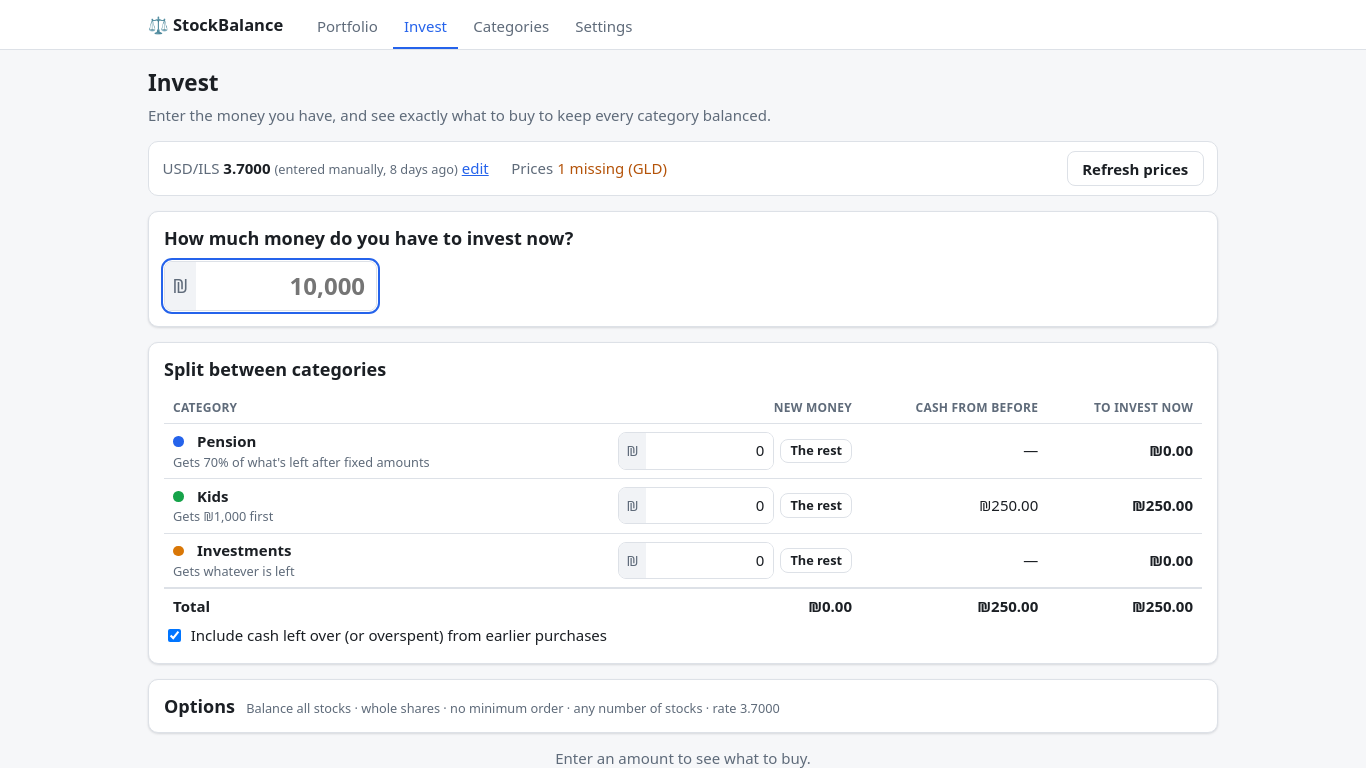
Scenario: InvestPage › asks for missing prices before calculating
The width and height of the screenshot is (1366, 768).
Step 1. Type "10000" into the field named "Amount to invest in ILS" → (286,286), box [196,262,376,310]
(page scrolled)
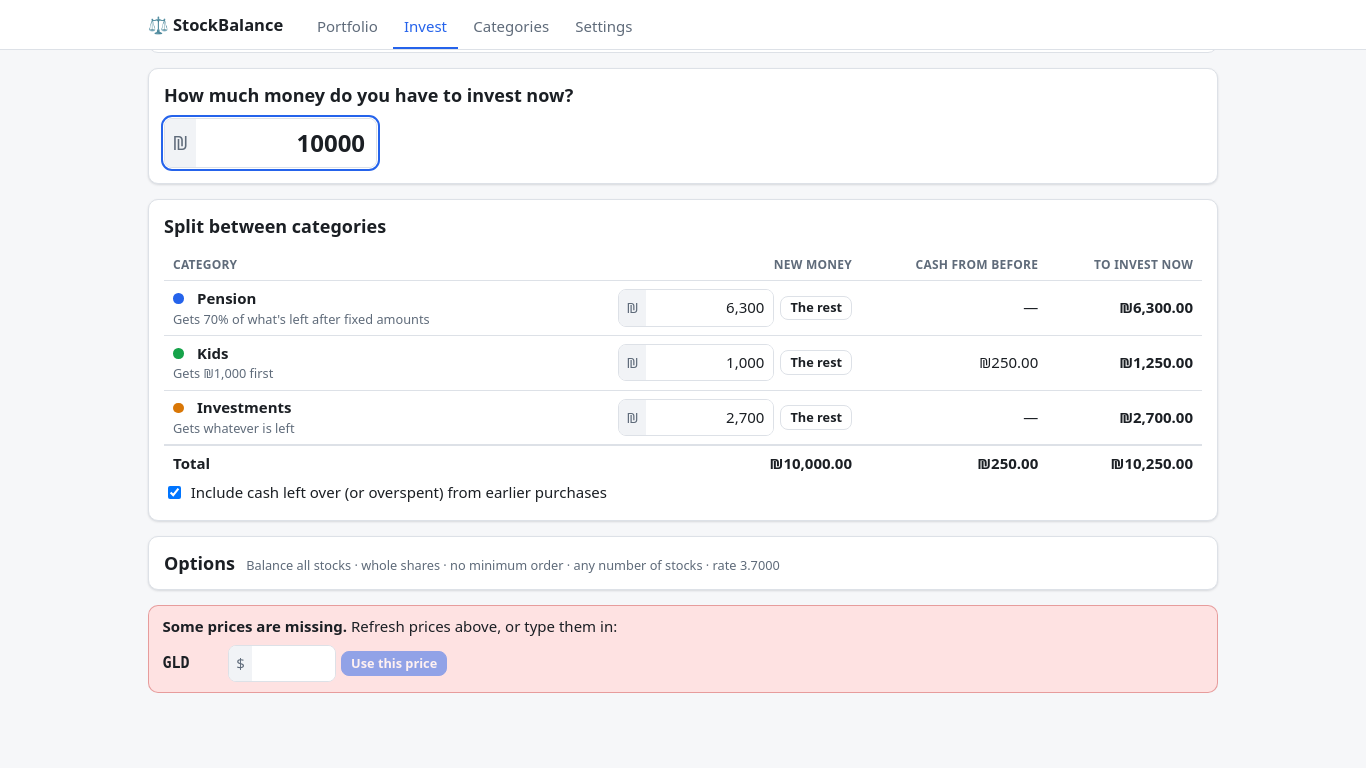
Expected: the element "Orders to place" is not shown
Expected: the text "Some prices are missing." is shown, [162,616,347,636]
Step 2. Type "300" into the field named "Price of GLD in USD" → (294,664), box [252,646,335,681]
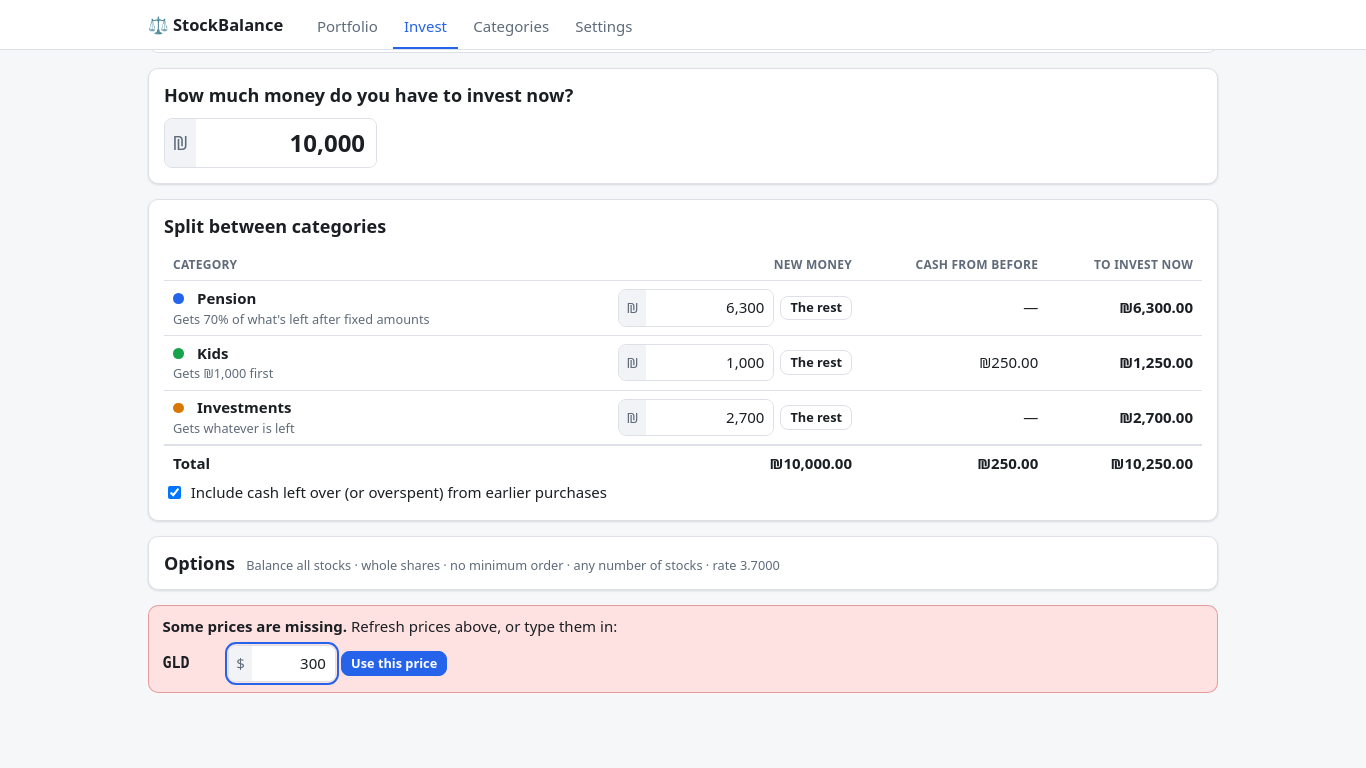
Step 3. Click the button "Use this price" → (394,664), box [341,651,447,676]
(page scrolled)
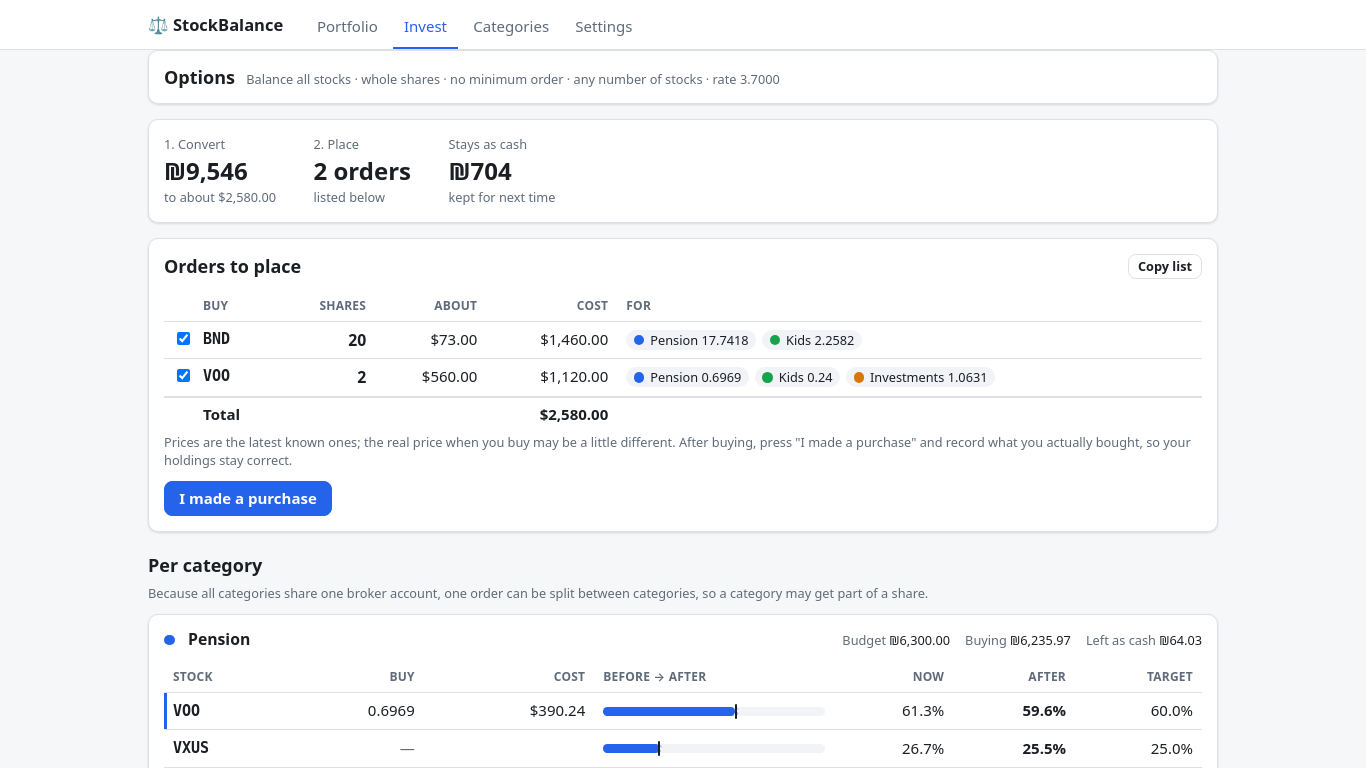
Expected: the text "Some prices are missing." is gone
Expected: the element "Orders to place" is shown, [148,238,1218,532]
